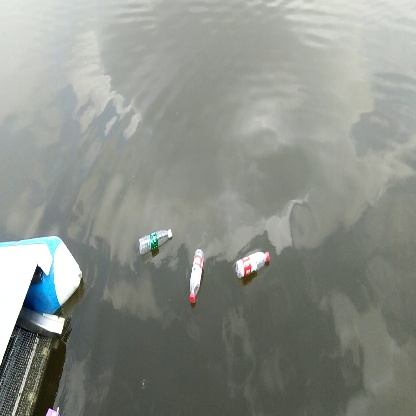bottle: (230, 248, 273, 283), (185, 248, 211, 305), (135, 228, 175, 257)
